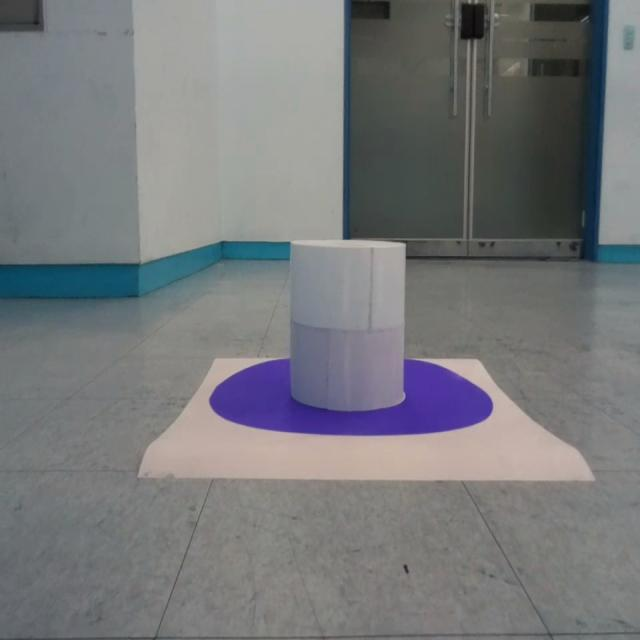cylinder: (289, 240, 406, 414)
